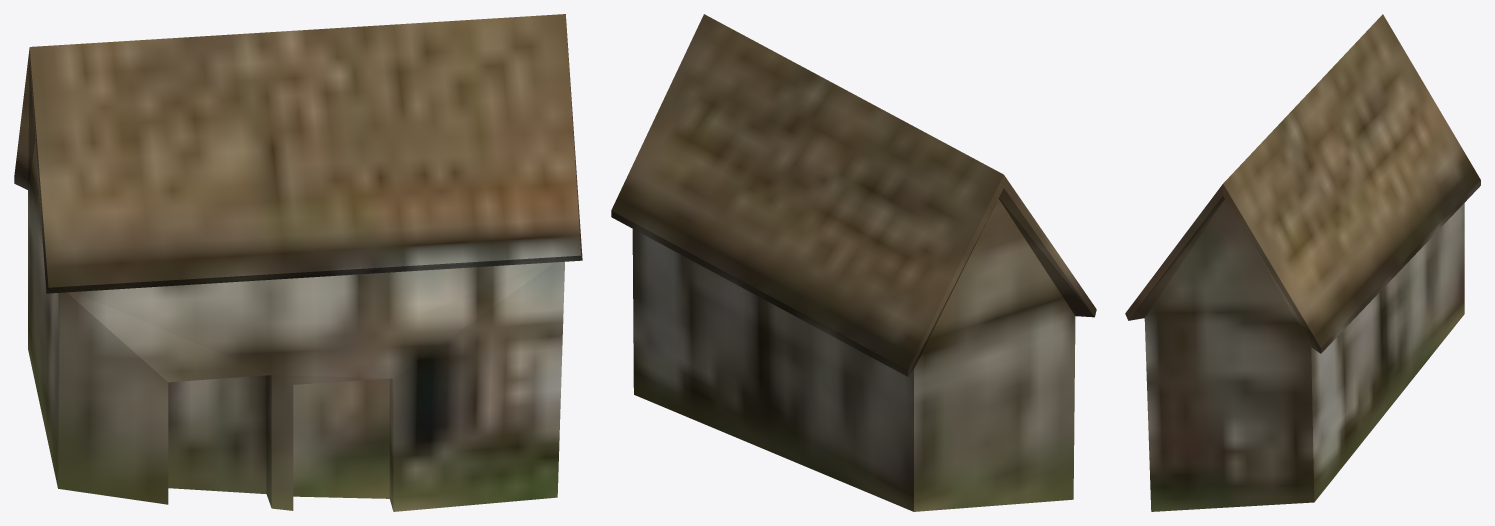
The model's file is house_08_game.glb.
3 renders of one model, left to right at view 1: azimuth 30°, elevation 25°; view 2: azimuth 150°, elevation 25°; view 3: azimuth 270°, elevation 25°, orthographic. The views are drawn at different scales.
Parts seen in each view (by area): view 1: geometry_0; view 2: geometry_0; view 3: geometry_0.
Boxes of the visible parts, box(x1,y1,x2,y2) form: geometry_0: box(14, 14, 582, 511); geometry_0: box(611, 14, 1096, 511); geometry_0: box(1125, 14, 1480, 511).
Size of the model in its own units: 10.77 by 8.64 by 7.98.
1 material, 1 textured.
